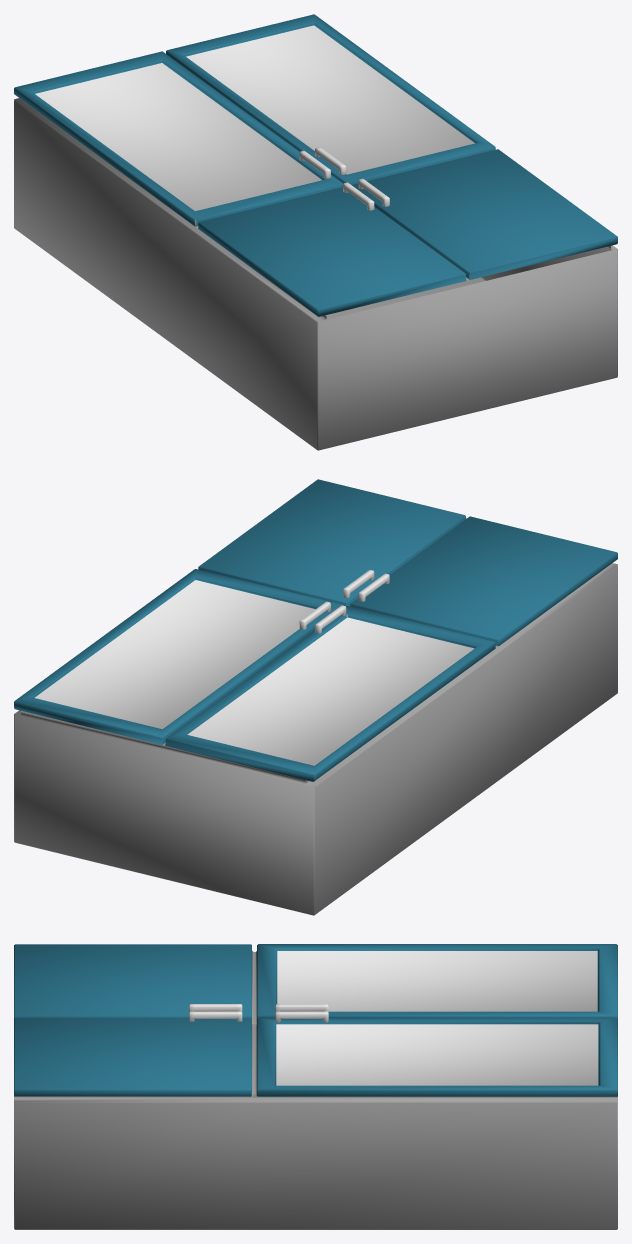
The picture shows the model from 3 angles, top to bottom: view 1: azimuth 30°, elevation 25°; view 2: azimuth 150°, elevation 25°; view 3: azimuth 270°, elevation 25°; orthographic projection.
Visible parts, largest first — view 1: Cube; view 2: Cube; view 3: Cube.
Part boxes in pixels (x1,y1,x2,y2): Cube: (14,14,617,450); Cube: (14,479,617,915); Cube: (14,944,617,1229).
Size of the model in its own units: 100 by 47.62 by 175.
